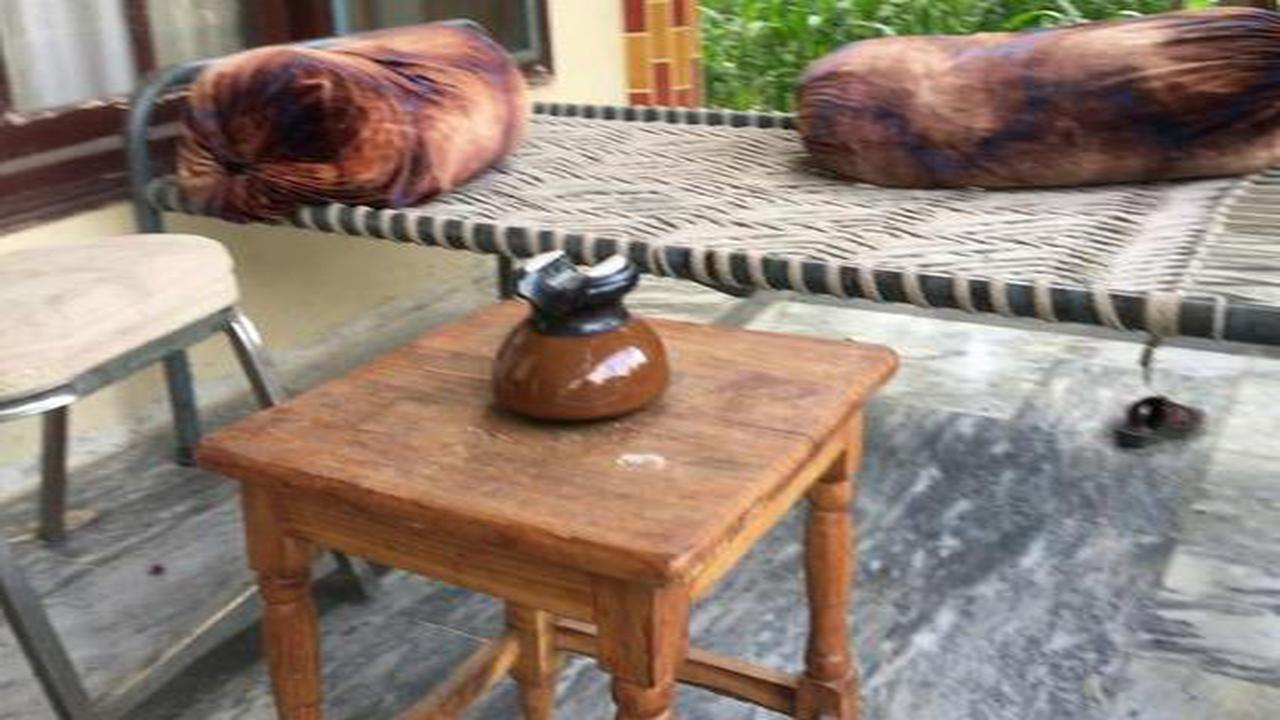insulator_pin: (474, 232, 687, 442)
